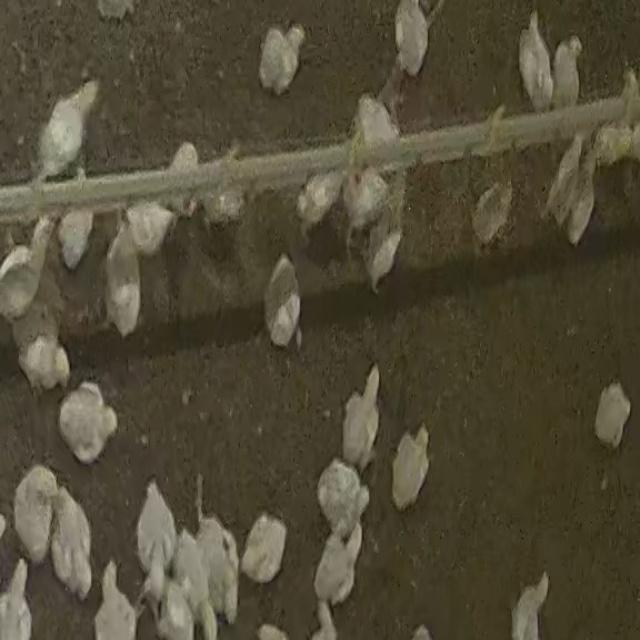chicken: (36, 79, 103, 179), (0, 219, 55, 317), (180, 531, 227, 640), (50, 486, 95, 596), (58, 382, 117, 464), (12, 464, 59, 566), (312, 518, 363, 606), (194, 140, 245, 228), (250, 24, 311, 95), (342, 363, 382, 471), (205, 516, 244, 620), (316, 460, 367, 537), (355, 217, 408, 290), (18, 329, 73, 398), (263, 252, 302, 349), (141, 481, 172, 598), (516, 19, 554, 113), (93, 562, 138, 640), (390, 424, 431, 509), (240, 514, 288, 584), (108, 227, 135, 345), (333, 173, 387, 230), (60, 183, 96, 267), (352, 87, 396, 155), (292, 177, 342, 234), (470, 181, 515, 243), (396, 0, 430, 79), (565, 159, 596, 245), (511, 572, 550, 640), (547, 135, 582, 210), (594, 381, 632, 450), (130, 197, 176, 253), (0, 561, 32, 637), (167, 141, 200, 213), (553, 32, 582, 112), (163, 580, 200, 640), (594, 123, 638, 165), (310, 602, 340, 639)
